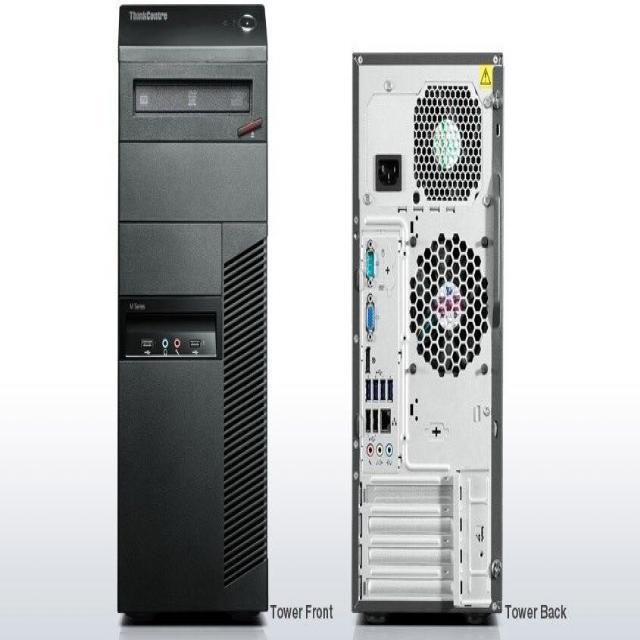Desktop-PC: (62, 2, 290, 634), (343, 36, 515, 626)
